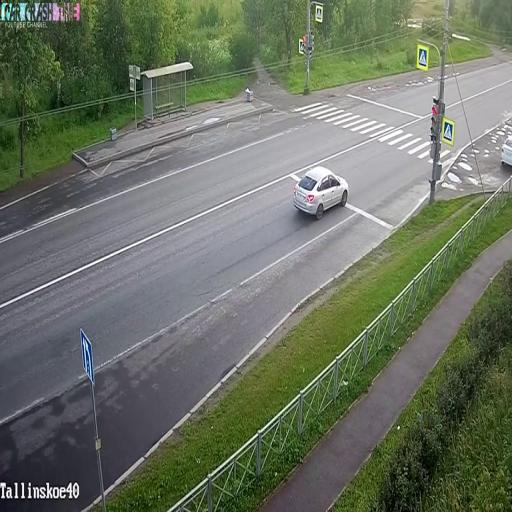小汽车: (294, 166, 348, 212), (501, 134, 512, 168)
